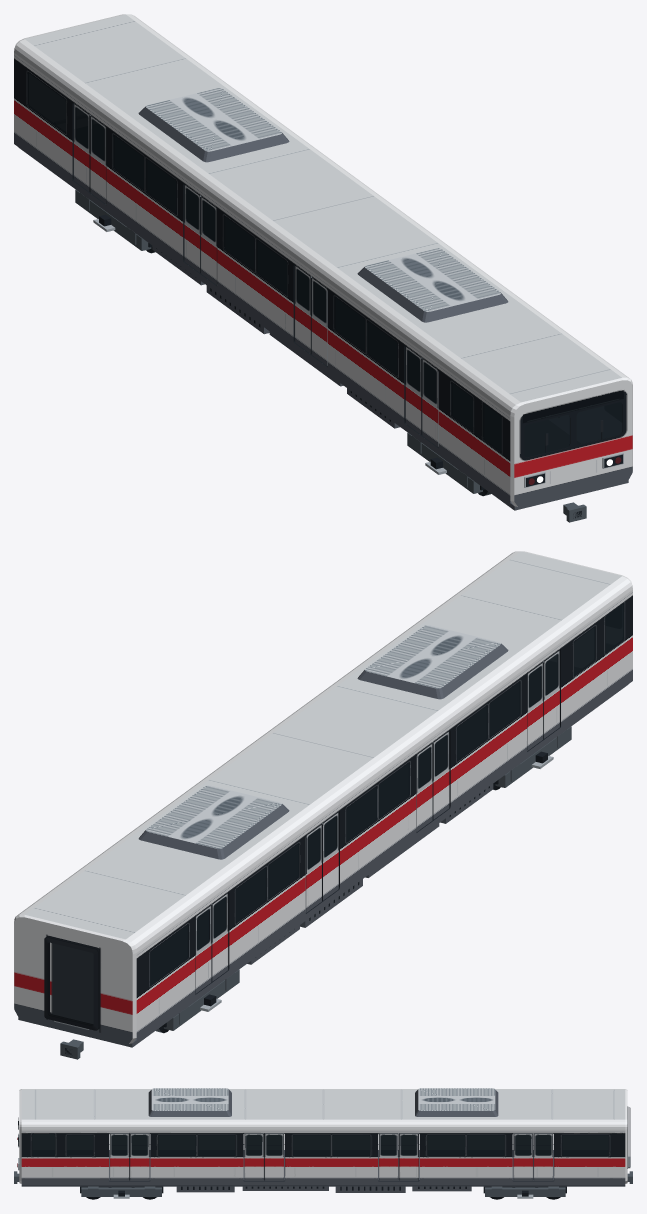
File: c151-cab.glb
3 renders of one model, top to bottom at view 1: azimuth 30°, elevation 25°; view 2: azimuth 150°, elevation 25°; view 3: azimuth 270°, elevation 25°, orthographic. The views are drawn at different scales.
Visible parts, largest first — view 1: Body_Shell, Glass_Windows, Roof_AC_2, Roof_AC_1, Glass_Windscreen, Door_L3_Leaf_B, Door_L2_Leaf_A, Door_L2_Leaf_B, Door_L1_Leaf_A, Door_L1_Leaf_B, Door_L3_Leaf_A, Door_L4_Leaf_B (+3 smaller); view 2: Body_Shell, Glass_Windows, Roof_AC_1, Roof_AC_2, Door_L2_Leaf_B, Door_L1_Leaf_A, Door_L4_Leaf_A, Door_L1_Leaf_B, Door_L2_Leaf_A, Door_L3_Leaf_A, Door_L3_Leaf_B, Door_L4_Leaf_B (+2 smaller); view 3: Body_Shell, Glass_Windows, Roof_AC_1, Roof_AC_2, Bogie_Rear, Bogie_Front, Door_R1_Leaf_A, Door_R1_Leaf_B, Door_R3_Leaf_A, Door_R3_Leaf_B, Door_R4_Leaf_A, Door_R4_Leaf_B (+2 smaller).
Boxes of the visible parts, x1,y1,x2,y2 form: Body_Shell: [14, 14, 632, 522]; Glass_Windows: [28, 73, 501, 452]; Roof_AC_2: [357, 248, 508, 322]; Roof_AC_1: [138, 88, 289, 162]; Glass_Windscreen: [524, 402, 622, 457]; Door_L3_Leaf_B: [294, 265, 311, 353]; Door_L2_Leaf_A: [200, 196, 217, 284]; Door_L2_Leaf_B: [184, 184, 200, 272]; Door_L1_Leaf_A: [90, 115, 106, 204]; Door_L1_Leaf_B: [73, 103, 90, 191]; Door_L3_Leaf_A: [311, 277, 327, 365]; Door_L4_Leaf_B: [405, 346, 421, 434]; Body_Shell: [14, 551, 632, 1059]; Glass_Windows: [150, 604, 623, 984]; Roof_AC_1: [138, 785, 289, 859]; Roof_AC_2: [357, 625, 508, 699]; Door_L2_Leaf_B: [305, 824, 322, 912]; Door_L1_Leaf_A: [211, 892, 228, 981]; Door_L4_Leaf_A: [543, 649, 559, 738]; Door_L1_Leaf_B: [195, 905, 211, 993]; Door_L2_Leaf_A: [322, 811, 338, 900]; Door_L3_Leaf_A: [432, 731, 449, 819]; Door_L3_Leaf_B: [416, 743, 432, 831]; Door_L4_Leaf_B: [527, 662, 543, 750]; Body_Shell: [14, 1089, 632, 1192]; Glass_Windows: [32, 1134, 608, 1155]; Roof_AC_1: [415, 1088, 498, 1116]; Roof_AC_2: [148, 1088, 231, 1116]; Bogie_Rear: [483, 1186, 566, 1199]; Bogie_Front: [80, 1186, 163, 1199]; Door_R1_Leaf_A: [513, 1133, 533, 1180]; Door_R1_Leaf_B: [533, 1133, 553, 1180]; Door_R3_Leaf_A: [244, 1133, 264, 1180]; Door_R3_Leaf_B: [264, 1133, 284, 1180]; Door_R4_Leaf_A: [109, 1133, 129, 1180]; Door_R4_Leaf_B: [129, 1133, 149, 1180].
Bounding box in the file's own units: 3.2 × 3.7 × 23.
Materials: 4 (4 with a texture image).
